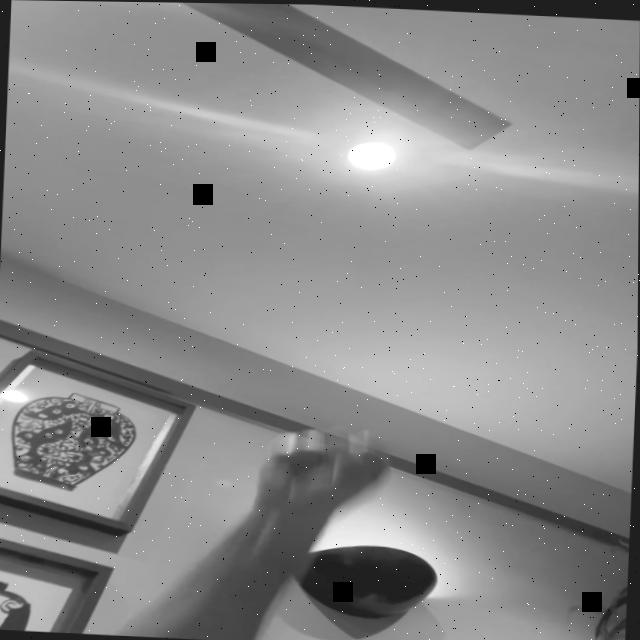Rock: (254, 422, 399, 516)
